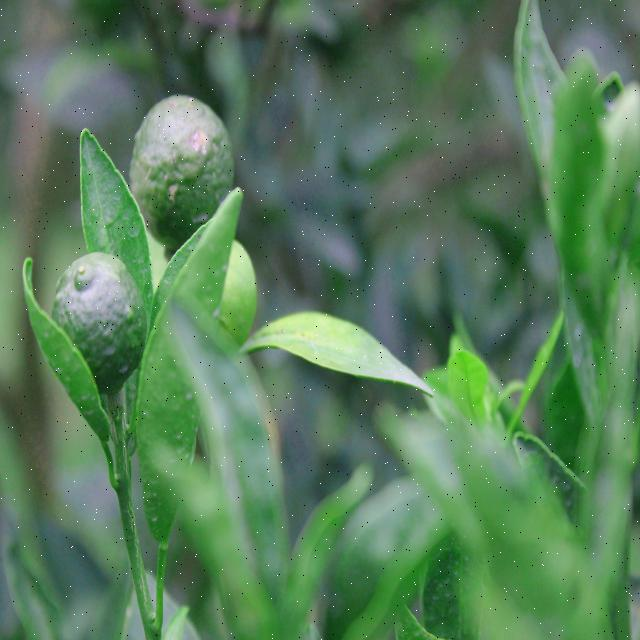greening: (269, 308, 395, 398)
